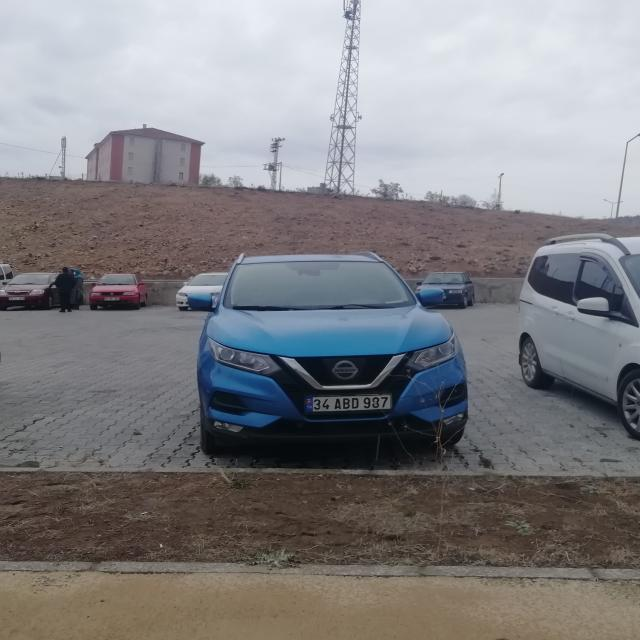license_plate: (305, 396, 392, 414)
